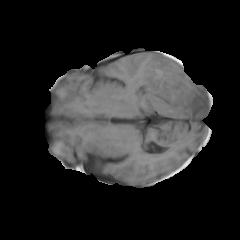glioma: (131, 54, 210, 117)
